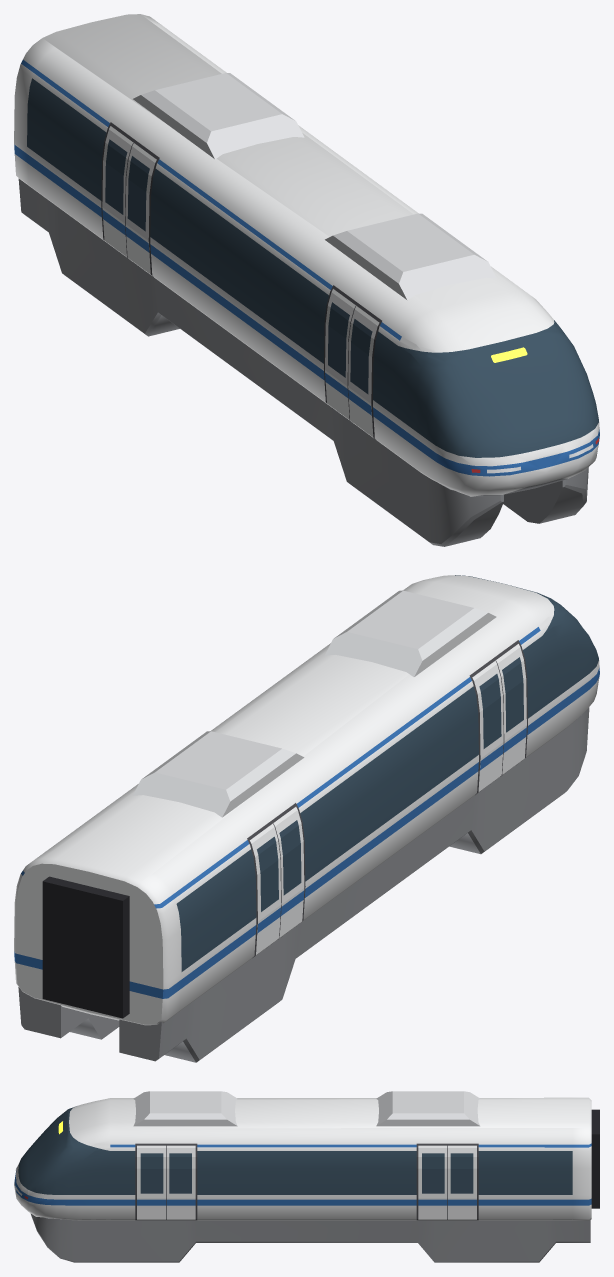
The picture shows the model from 3 angles, top to bottom: view 1: azimuth 30°, elevation 25°; view 2: azimuth 150°, elevation 25°; view 3: azimuth 270°, elevation 25°; orthographic projection. The views are drawn at different scales.
Visible parts, largest first — view 1: 308; view 2: 308; view 3: 308.
Part boxes in pixels (<box>): 308: <box>14,14,599,546</box>; 308: <box>14,575,599,1062</box>; 308: <box>14,1091,599,1262</box>.
Size of the model in its own units: 2.72 by 3.7 by 14.
